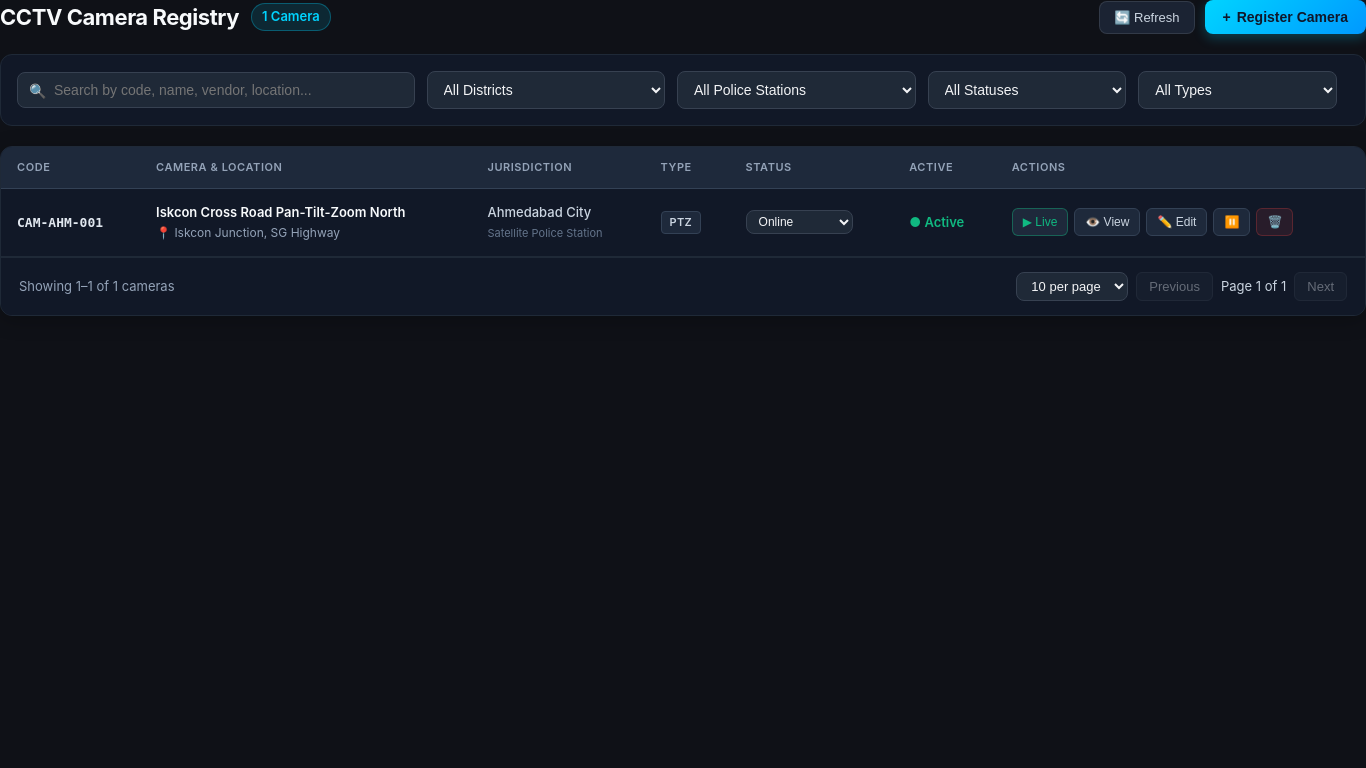
CamerasPage › should open Technical Details modal when clicking View
Expected: the text "CAM-AHM-001" is shown, [1,188,140,256]
What coordinates should you click on to do the following:
click the button titled "View Technical Details"
I would click on:
 (1107, 222)
Its box is [1074,208,1140,236].
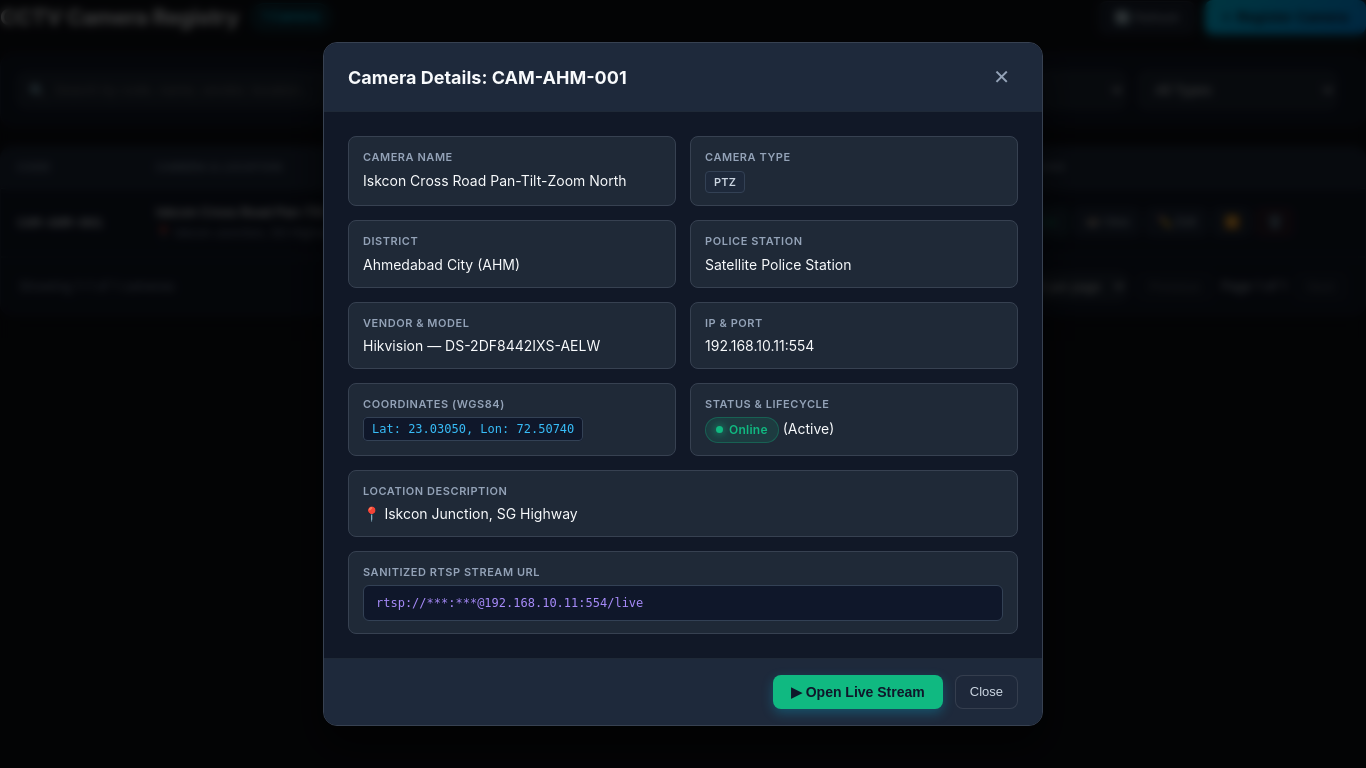
Now the heading "Camera Details: CAM-AHM-001" is shown, box [348,64,627,91]
Now the text "rtsp://***:***@192.168.10.11:554/live" is shown, box [363,585,1003,621]
